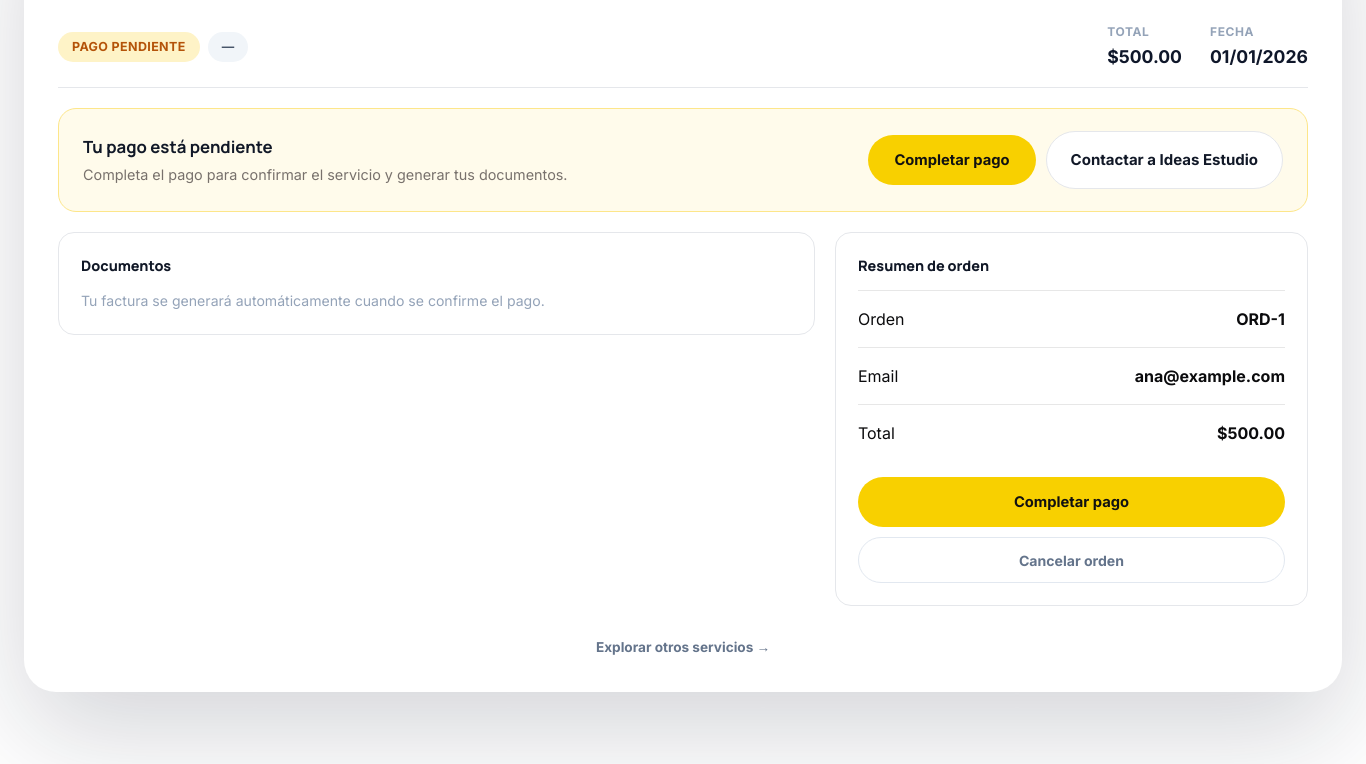
Test: AccountOrderDetailPage — loading state and errors › shows a friendly message for order_has_completed_payment and keeps the order unchanged
This screenshot has width=1366, height=764.
(page scrolled)
Click the button "Cancelar orden" at (1071, 560), box left=858, top=537, right=1285, bottom=583
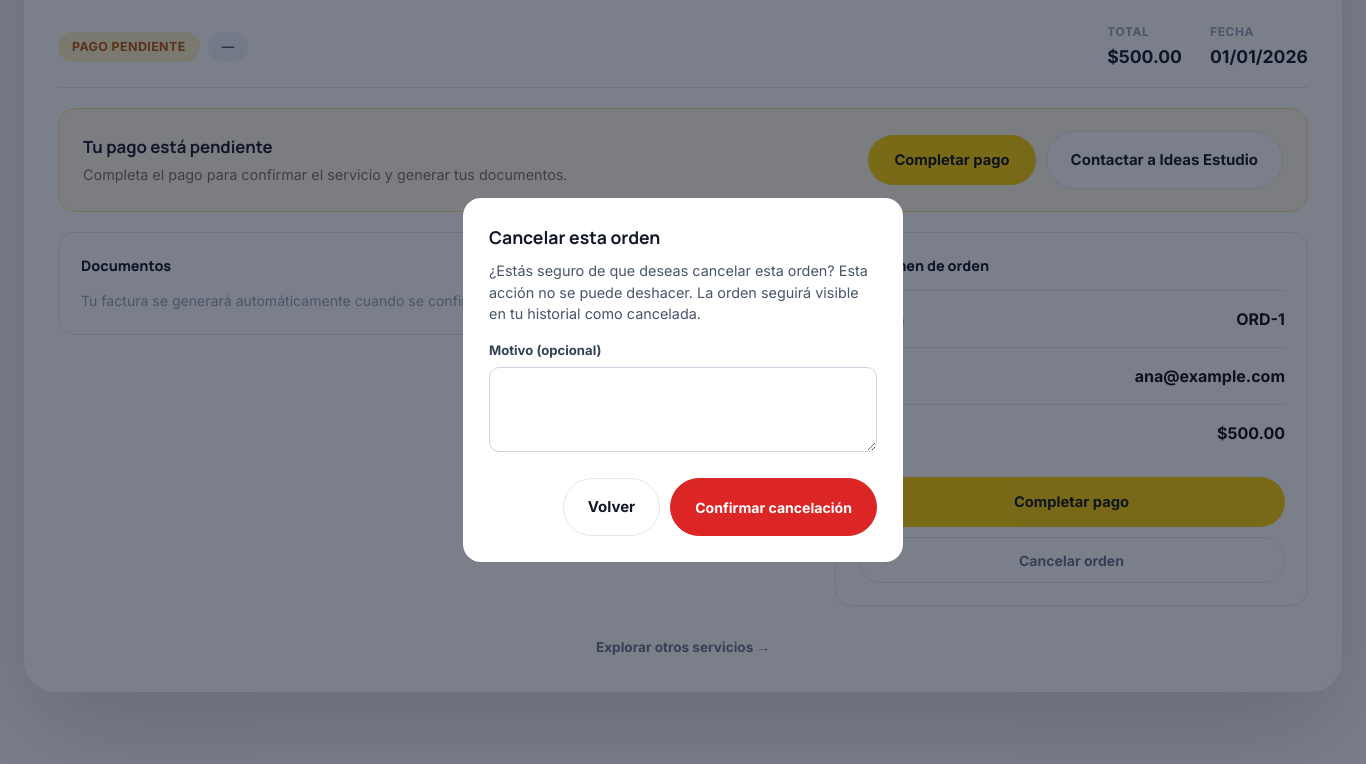
Click the button "Confirmar cancelación" at (774, 507), box left=670, top=478, right=877, bottom=536
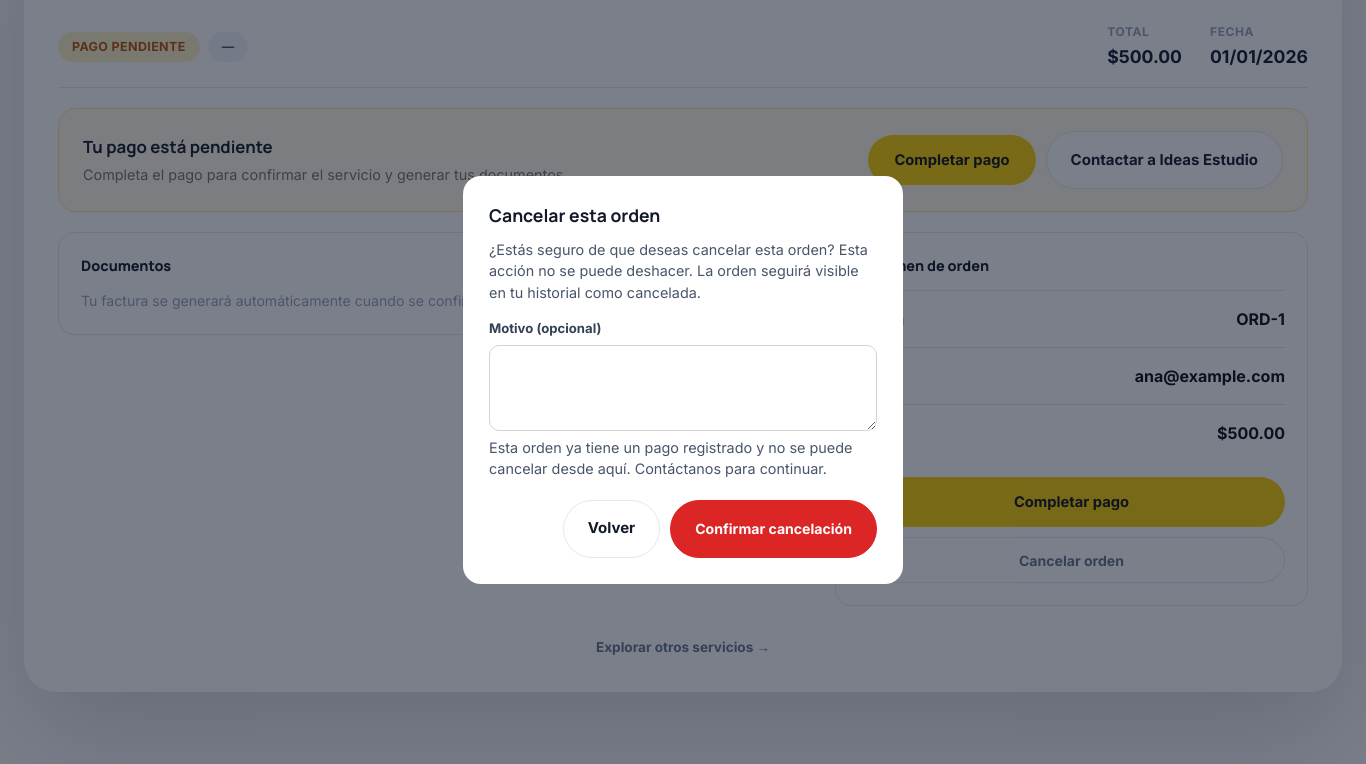
Expected: the dialog is shown, left=463, top=176, right=903, bottom=584
Expected: the text "Esta orden ya tiene un pago registrado y no se puede cancelar desde aquí. Contáctanos para continuar." is shown, left=489, top=438, right=852, bottom=477
